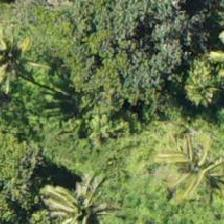coconut_tree: (146, 109, 223, 199), (33, 167, 123, 223), (0, 16, 50, 106)
